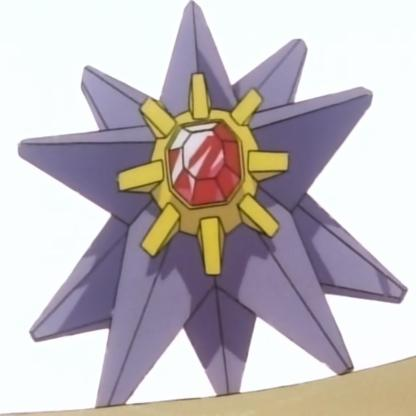Starmie: (22, 1, 410, 409)
